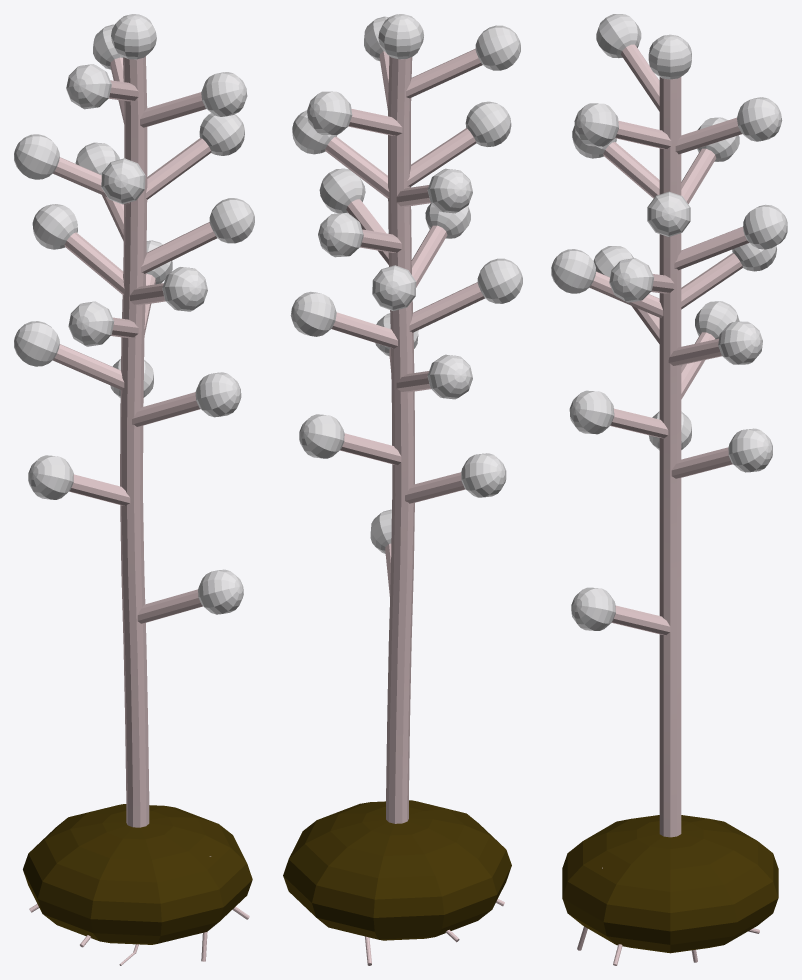
The model's file is EyeRoot.fbx.
3 views of the same model, side by side, from view 1: azimuth 30°, elevation 25°; view 2: azimuth 150°, elevation 25°; view 3: azimuth 270°, elevation 25° (orthographic).
Visible parts, largest first — view 1: EyeRoot; view 2: EyeRoot; view 3: EyeRoot.
Part boxes in pixels (x1=…): EyeRoot: x1=14, y1=14, x2=254, y2=965; EyeRoot: x1=283, y1=14, x2=522, y2=965; EyeRoot: x1=551, y1=14, x2=787, y2=965.
Bounding box in the file's own units: 41.97 × 175 × 41.62.
